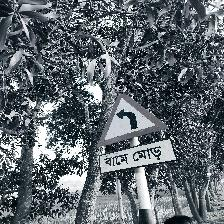Left-Turn: (97, 93, 175, 179)
